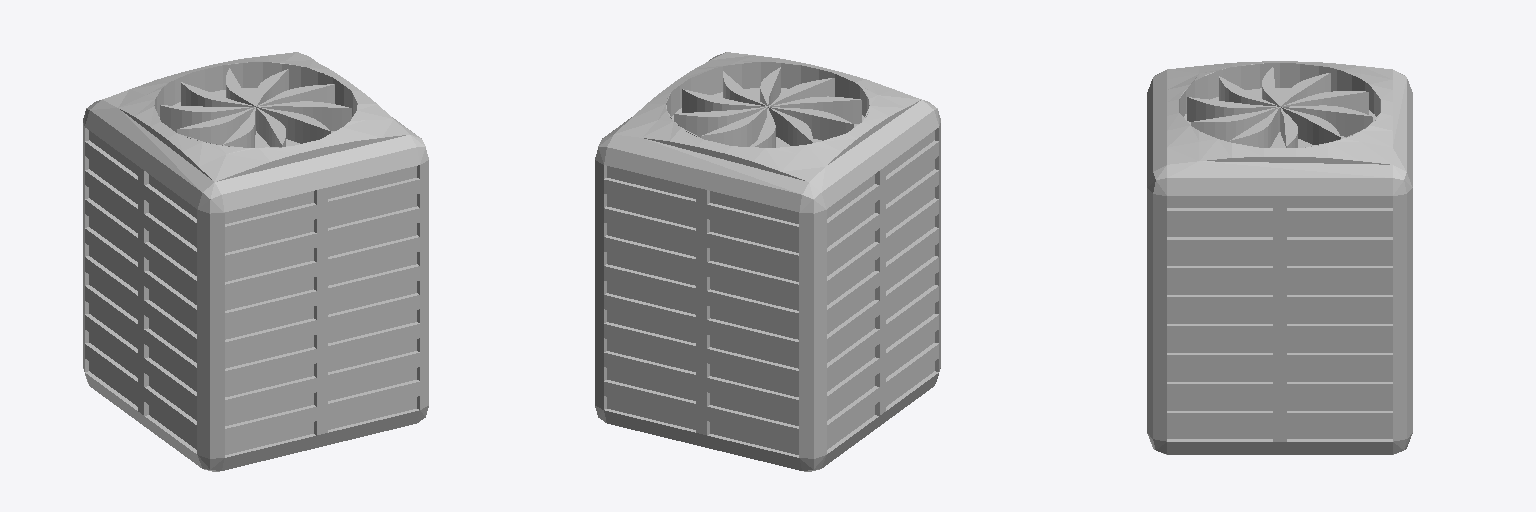
File: Central AC.obj
The picture shows the model from 3 angles: view 1: azimuth 30°, elevation 25°; view 2: azimuth 150°, elevation 25°; view 3: azimuth 270°, elevation 25°; orthographic projection.
Visible parts, largest first — view 1: AC_Cube, Blades_Plane; view 2: AC_Cube, Blades_Plane; view 3: AC_Cube, Blades_Plane.
Part boxes in pixels (x1,y1,x2,y2): AC_Cube: (83, 52, 428, 471); Blades_Plane: (160, 68, 351, 147); AC_Cube: (595, 52, 940, 471); Blades_Plane: (674, 67, 861, 147); AC_Cube: (1147, 61, 1412, 454); Blades_Plane: (1187, 67, 1372, 147).
Size of the model in its own units: 2 by 2.52 by 2.